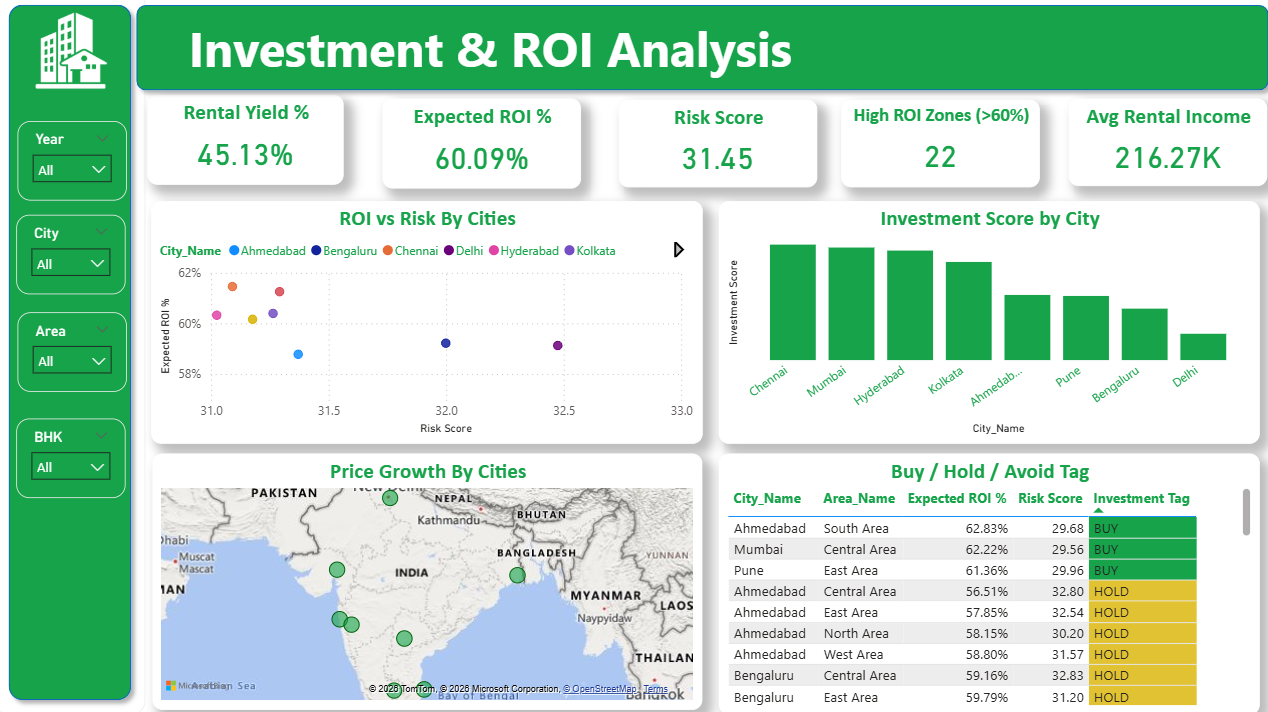

What the dashboard file says about the page in this screenshot:
{"tool":"powerbi","page":{"name":"Investment & ROI Analysis","canvas":[1280,720],"ordinal":3},"visuals":[{"type":"group","id":"g1","title":"Group 2","box":[0,0,149.3,720.3],"z":0},{"type":"group","id":"g2","title":"Group 1","box":[0,0,149.7,719.8],"z":0,"group":"g1"},{"type":"shape","box":[0,0,149.7,719.8],"z":0,"group":"g2"},{"type":"shape","box":[131.9,5.3,1144.4,102.9],"z":0,"group":"g3"},{"type":"image","box":[18.7,15.1,113.7,89.1],"z":1000,"group":"g2"},{"type":"textbox","box":[188.2,19,834.3,75.5],"z":1000,"group":"g3"},{"type":"card","title":"Rental Yield %","fields":{"Values":["Measures_.Rental Yield %"]},"box":[151.8,103.2,195.3,89.6],"z":1000},{"type":"slicer","fields":{"Values":["datedim.Year"]},"box":[22.1,129,108.4,79.6],"z":1000,"group":"g1"},{"type":"group","id":"g3","title":"Group 3","box":[131.9,5.3,1144.4,102.9],"z":2000},{"type":"slicer","fields":{"Values":["city.City_Name"]},"box":[20.7,222.3,108.4,79.6],"z":2000,"group":"g1"},{"type":"card","title":"Expected ROI %","fields":{"Values":["Measures_.Expected ROI %"]},"box":[385.6,107,197.8,89.6],"z":3000},{"type":"slicer","fields":{"Values":["property.BHK"]},"box":[20.7,425.4,108.4,79.6],"z":3000,"group":"g1"},{"type":"card","title":"Risk Score","fields":{"Values":["Measures_.Risk Score"]},"box":[620.7,108.2,197.8,87.1],"z":4000},{"type":"slicer","fields":{"Values":["area.Area_Name"]},"box":[22.1,319.7,108.4,79.6],"z":4000,"group":"g1"},{"type":"card","title":"High ROI Zones (>60%)","fields":{"Values":["Measures_.High ROI Zones"]},"box":[842.2,108.2,197.8,87.1],"z":5000},{"type":"card","title":"Avg Rental Income","fields":{"Values":["Measures_.Avg Rental Income"]},"box":[1068.6,107,197.8,87.1],"z":6000},{"type":"scatterChart","title":" ROI vs Risk By Cities","fields":{"X":["Measures_.Risk Score"],"Y":["Measures_.Expected ROI %"],"Series":["city.City_Name"]},"box":[155.5,209,548.6,241.3],"z":7000},{"type":"columnChart","title":"Investment Score by City","fields":{"Category":["city.City_Name"],"Y":["Measures_.Investment Score"]},"box":[720.3,209,538.6,241.3],"z":8000},{"type":"map","title":"Price Growth By Cities","fields":{"Category":["city.City_Name"],"Size":["Measures_.Investment Score"]},"box":[156.7,460.3,547.3,255],"z":9000},{"type":"tableEx","title":"Buy / Hold / Avoid Tag","fields":{"Values":["city.City_Name","area.Area_Name","Measures_.Expected ROI %","Measures_.Risk Score","Measures_.Investment Tag"]},"box":[720.3,460.3,538.6,260],"z":10000}]}

Visuals, with their boxes in screenshot pixels (x1, y1, x2, y2), scaled from the page's 1280x720 canvas onto the 1268x712 screenshot:
"Group 2" group: box=[0, 0, 148, 711]
"Group 1" group: box=[0, 0, 148, 711]
shape: box=[0, 0, 148, 711]
shape: box=[131, 5, 1264, 107]
image: box=[19, 15, 131, 103]
textbox: box=[186, 19, 1013, 93]
"Rental Yield %" card: box=[150, 102, 344, 191]
slicer - datedim.Year: box=[22, 128, 129, 206]
"Group 3" group: box=[131, 5, 1264, 107]
slicer - city.City_Name: box=[21, 220, 128, 299]
"Expected ROI %" card: box=[382, 106, 578, 194]
slicer - property.BHK: box=[21, 421, 128, 499]
"Risk Score" card: box=[615, 107, 811, 193]
slicer - area.Area_Name: box=[22, 316, 129, 395]
"High ROI Zones (>60%)" card: box=[834, 107, 1030, 193]
"Avg Rental Income" card: box=[1059, 106, 1255, 192]
" ROI vs Risk By Cities" scatterChart: box=[154, 207, 697, 445]
"Investment Score by City" columnChart: box=[714, 207, 1247, 445]
"Price Growth By Cities" map: box=[155, 455, 697, 707]
"Buy / Hold / Avoid Tag" tableEx: box=[714, 455, 1247, 711]
